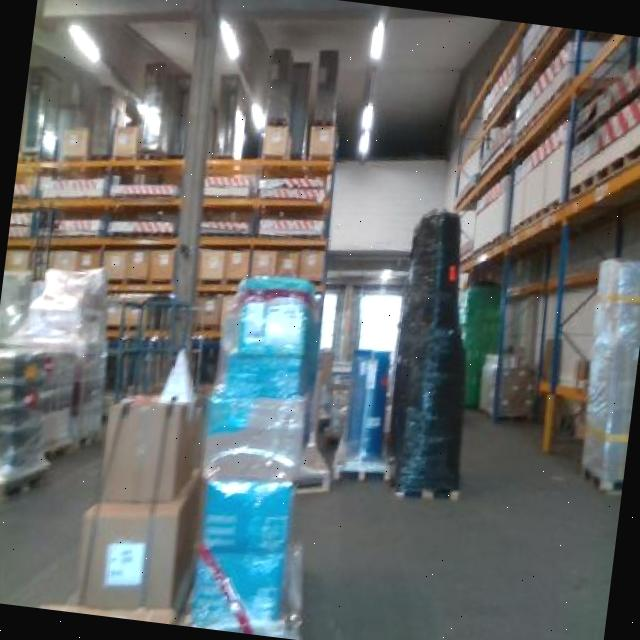pallet: (563, 134, 640, 211), (327, 457, 397, 483)
